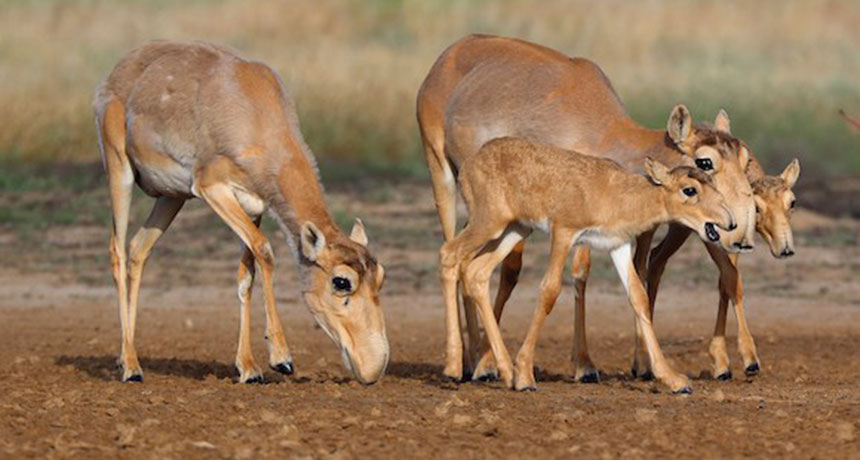saiga: (90, 35, 391, 394), (440, 134, 733, 384)
